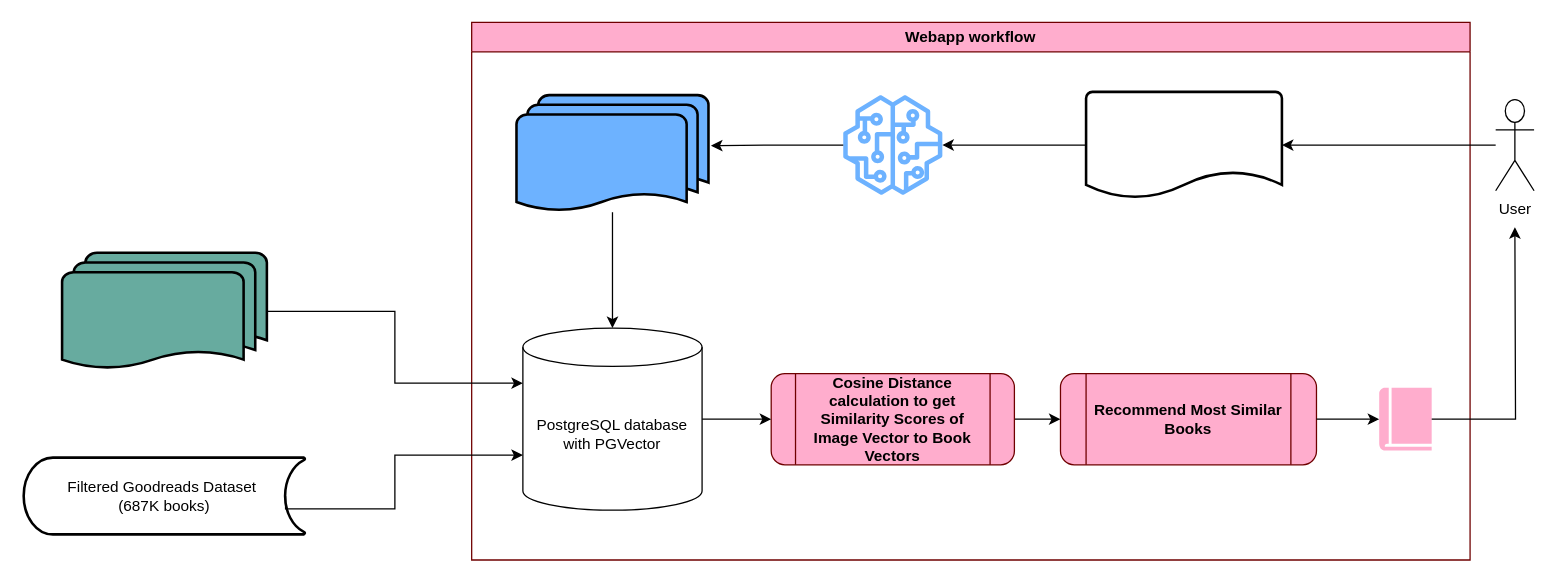
The diagram is 1556 pixels wide and 582 high, and some of its shapes have lost their labels. Each missing label, with the centre of its shape:
Multimodal Emotion Distribution: point 164,311
Predicted Emotion Distribution: point 612,153
Uploads image: point 1183,144
